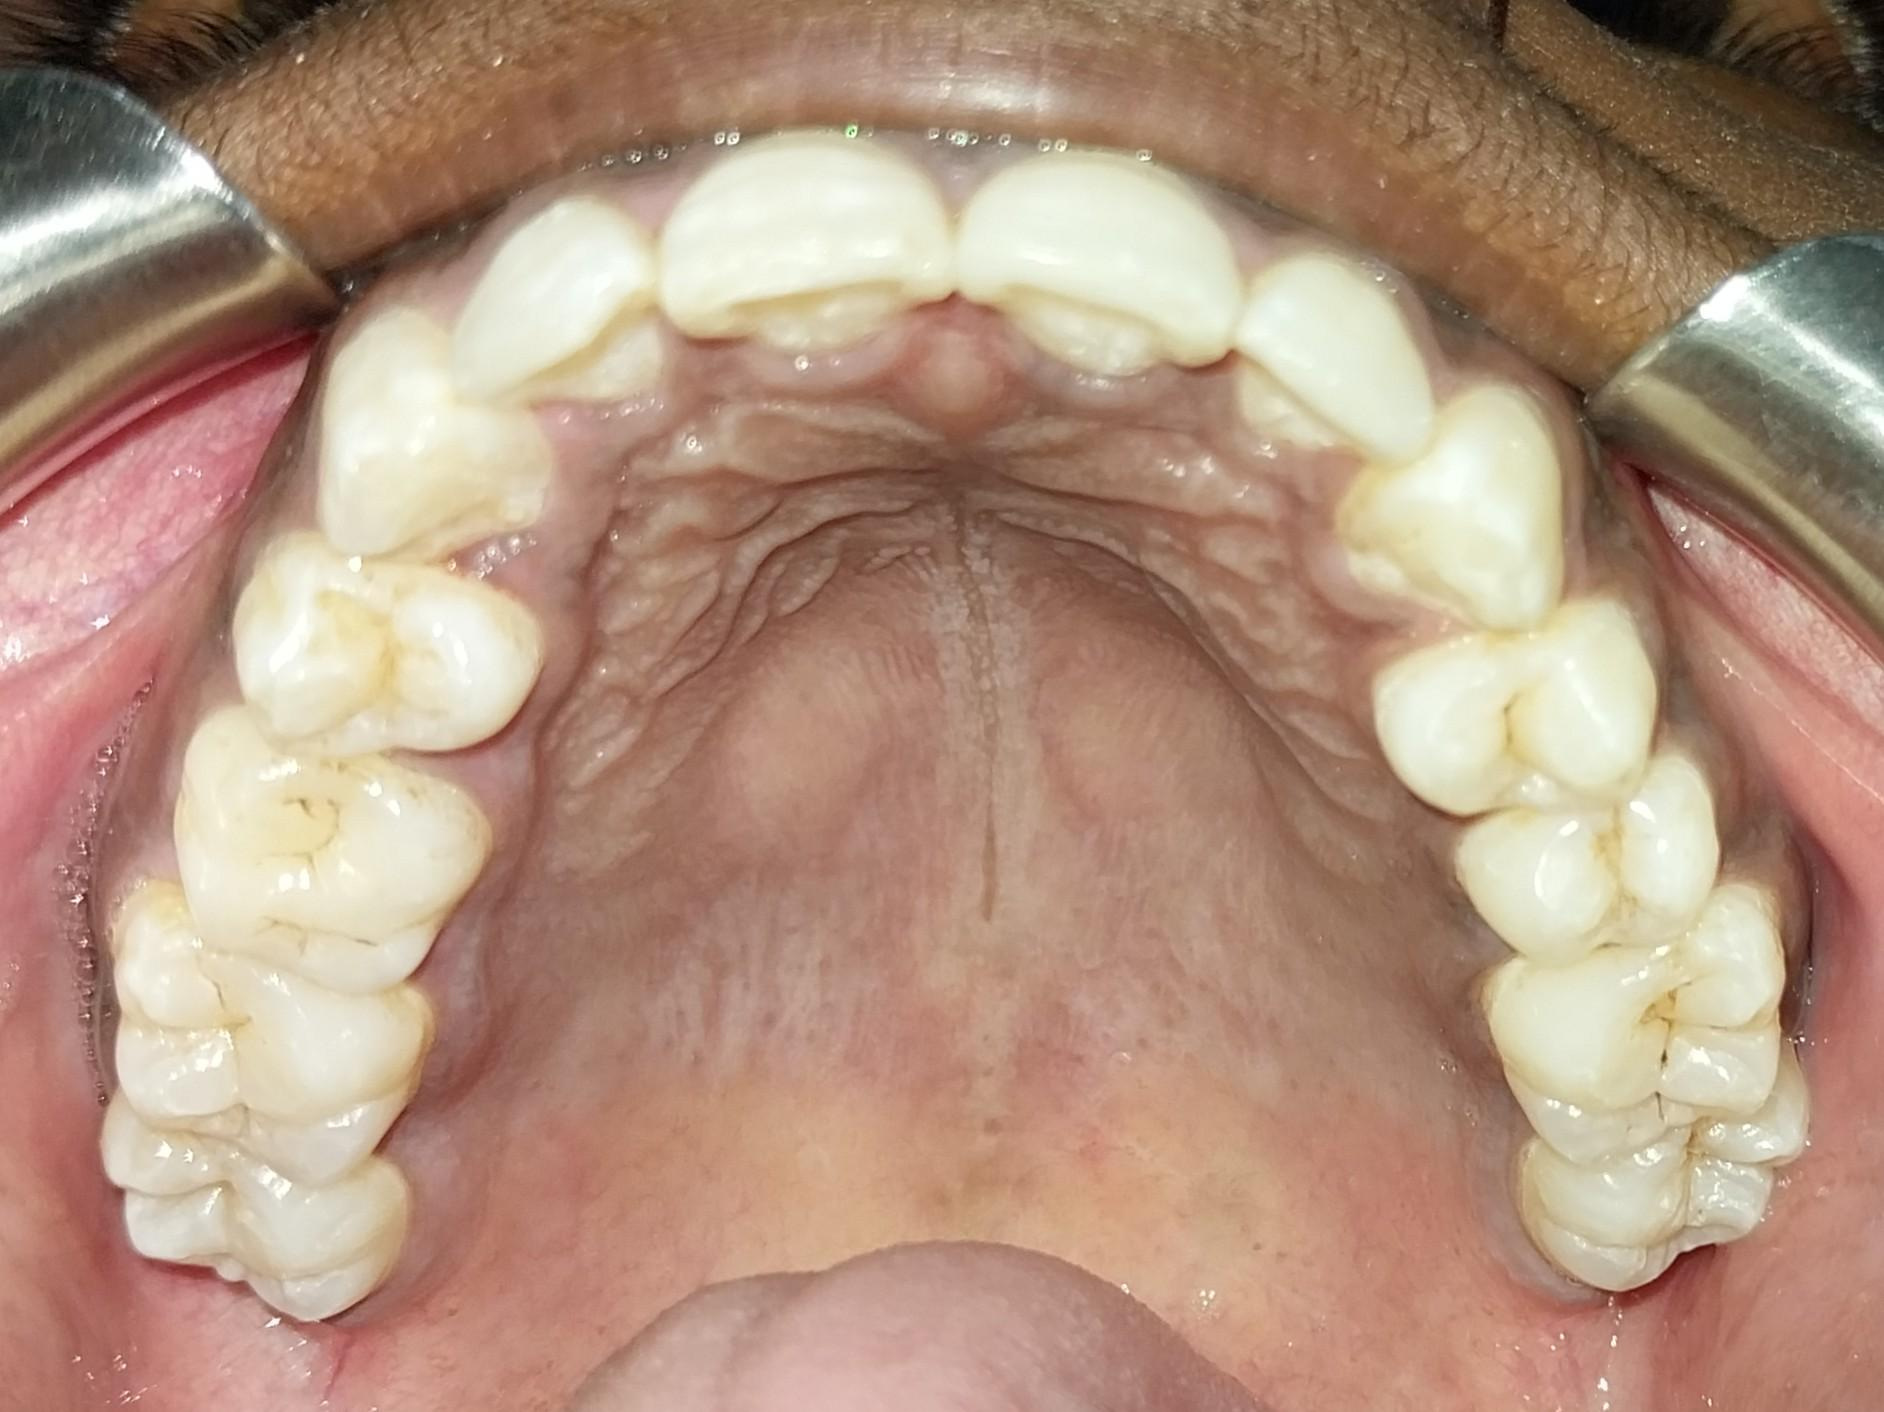D: (1490, 912, 1780, 1154)
